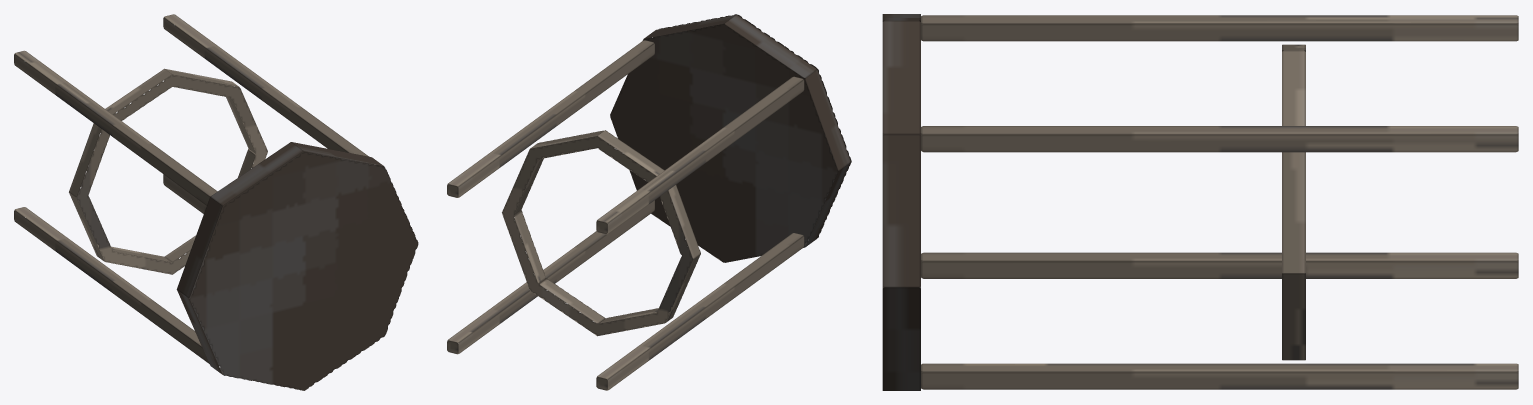
File: pz_house_stool_blue.obj
The picture shows the model from 3 angles, left to right: view 1: azimuth 30°, elevation 25°; view 2: azimuth 150°, elevation 25°; view 3: azimuth 270°, elevation 25°; orthographic projection. The views are drawn at different scales.
Parts seen in each view (by area): view 1: pz_house_stool_blue_|_1_assento, pz_house_stool_blue_|_6_assento, pz_house_stool_blue_|_3_pes_suporte, pz_house_stool_blue_|_2_pes_suporte, pz_house_stool_blue_|_5_pes_suporte, pz_house_stool_blue_|_4_pes_suporte; view 2: pz_house_stool_blue_|_1_assento, pz_house_stool_blue_|_6_assento, pz_house_stool_blue_|_3_pes_suporte, pz_house_stool_blue_|_2_pes_suporte, pz_house_stool_blue_|_5_pes_suporte, pz_house_stool_blue_|_4_pes_suporte; view 3: pz_house_stool_blue_|_4_pes_suporte, pz_house_stool_blue_|_3_pes_suporte, pz_house_stool_blue_|_5_pes_suporte, pz_house_stool_blue_|_2_pes_suporte, pz_house_stool_blue_|_1_assento, pz_house_stool_blue_|_6_assento.
Part boxes in pixels (bbox=[...]): pz_house_stool_blue_|_1_assento: bbox=[176, 142, 418, 390]; pz_house_stool_blue_|_6_assento: bbox=[69, 68, 267, 274]; pz_house_stool_blue_|_3_pes_suporte: bbox=[14, 50, 217, 205]; pz_house_stool_blue_|_2_pes_suporte: bbox=[14, 207, 209, 363]; pz_house_stool_blue_|_5_pes_suporte: bbox=[163, 14, 368, 156]; pz_house_stool_blue_|_4_pes_suporte: bbox=[163, 174, 206, 213]; pz_house_stool_blue_|_1_assento: bbox=[610, 14, 851, 262]; pz_house_stool_blue_|_6_assento: bbox=[502, 130, 700, 336]; pz_house_stool_blue_|_3_pes_suporte: bbox=[596, 76, 804, 234]; pz_house_stool_blue_|_2_pes_suporte: bbox=[596, 233, 804, 390]; pz_house_stool_blue_|_5_pes_suporte: bbox=[447, 40, 654, 197]; pz_house_stool_blue_|_4_pes_suporte: bbox=[447, 200, 654, 354]; pz_house_stool_blue_|_4_pes_suporte: bbox=[921, 363, 1518, 389]; pz_house_stool_blue_|_3_pes_suporte: bbox=[921, 15, 1518, 41]; pz_house_stool_blue_|_5_pes_suporte: bbox=[921, 126, 1518, 152]; pz_house_stool_blue_|_2_pes_suporte: bbox=[921, 252, 1518, 278]; pz_house_stool_blue_|_1_assento: bbox=[882, 14, 920, 390]; pz_house_stool_blue_|_6_assento: bbox=[1282, 44, 1305, 360].
Size of the model in its own units: 0.49 by 0.49 by 0.78.
Materials: 1 (1 with a texture image).
